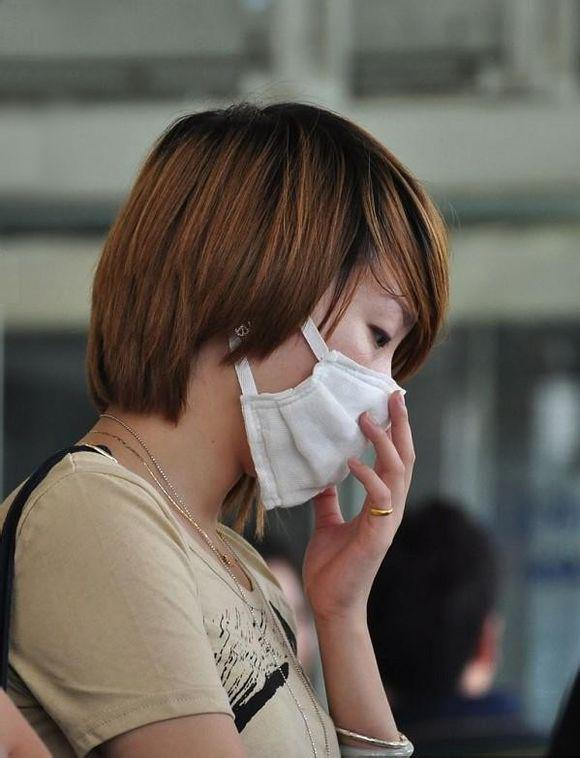OK: (226, 279, 420, 496)
